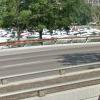Tree: (6, 0, 100, 40)
